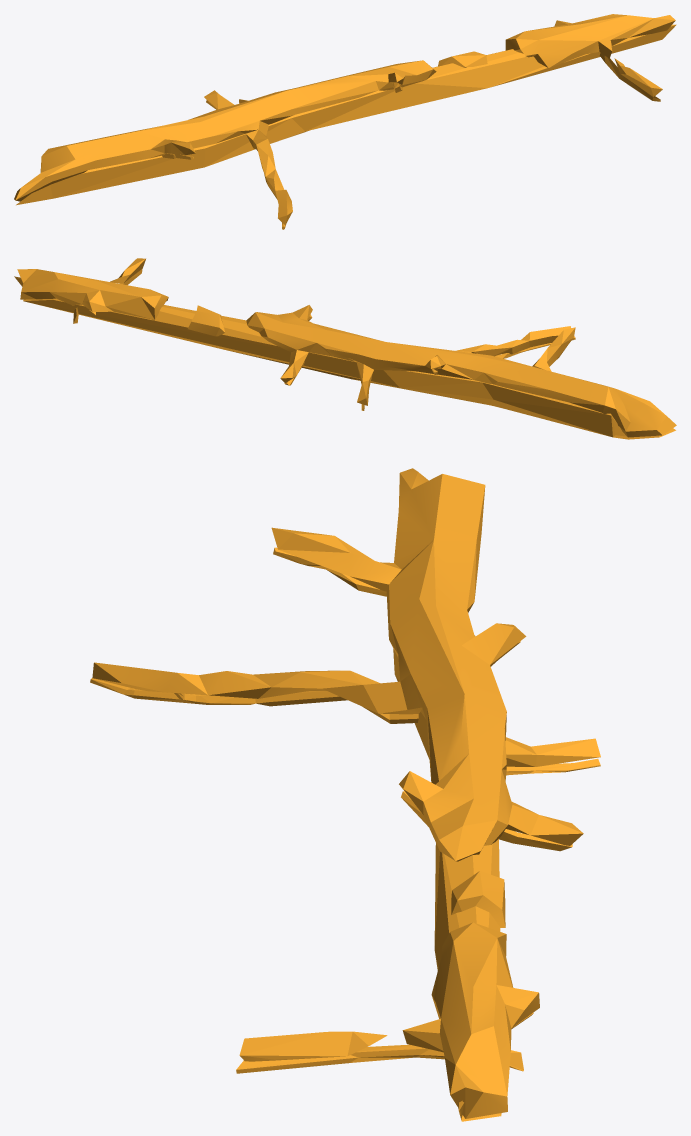
Rendered from SM_Tree_Spruce_Fallen_A_Snow.fbx.
3 views of the same model, one above another, from view 1: azimuth 30°, elevation 25°; view 2: azimuth 150°, elevation 25°; view 3: azimuth 270°, elevation 25° (orthographic). The views are drawn at different scales.
Parts seen in each view (by area): view 1: tree-spruce-fallen-a-snow; view 2: tree-spruce-fallen-a-snow; view 3: tree-spruce-fallen-a-snow.
Part boxes in pixels (x1,y1,x2,y2): tree-spruce-fallen-a-snow: (14,14,676,229); tree-spruce-fallen-a-snow: (14,258,676,439); tree-spruce-fallen-a-snow: (90,468,600,1121).
Size of the model in its own units: 7.12 by 0.6289 by 2.43.
